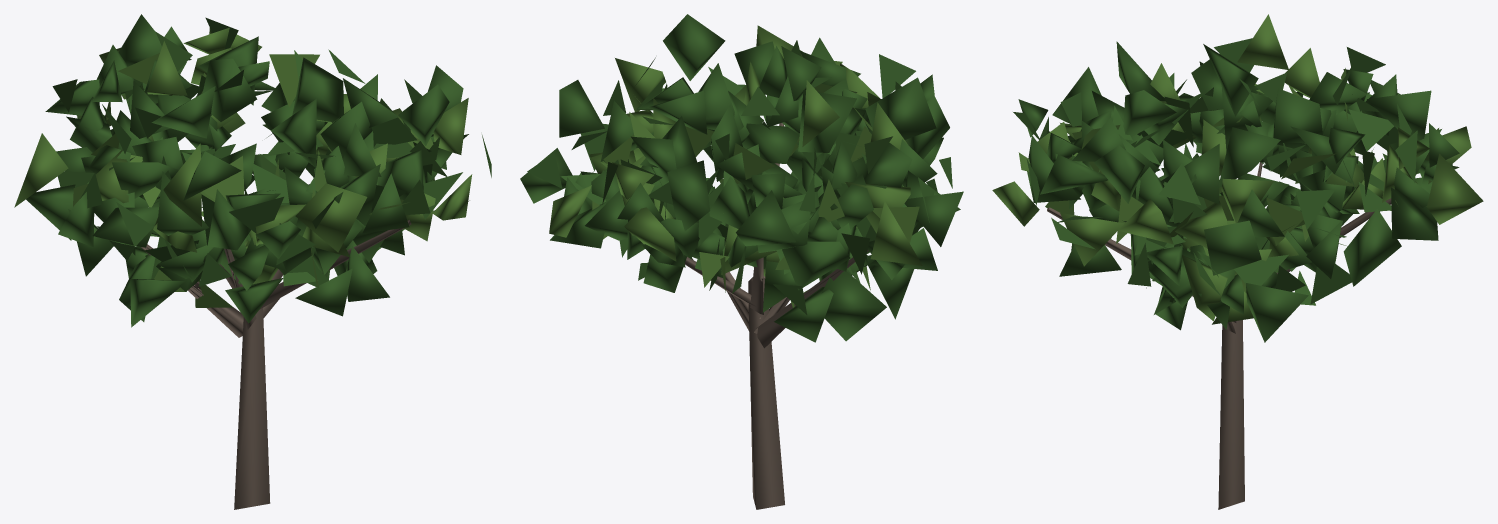
The model's file is city_neem_3_far.glb.
The picture shows the model from 3 angles, left to right: view 1: azimuth 30°, elevation 25°; view 2: azimuth 150°, elevation 25°; view 3: azimuth 270°, elevation 25°; orthographic projection. The views are drawn at different scales.
Visible parts, largest first — view 1: Branch; view 2: Branch; view 3: Branch.
Part boxes in pixels (x1=…): Branch: x1=14, y1=14, x2=491, y2=509; Branch: x1=520, y1=14, x2=963, y2=509; Branch: x1=992, y1=14, x2=1483, y2=509.
Size of the model in its own units: 8.23 by 8.79 by 8.56.
